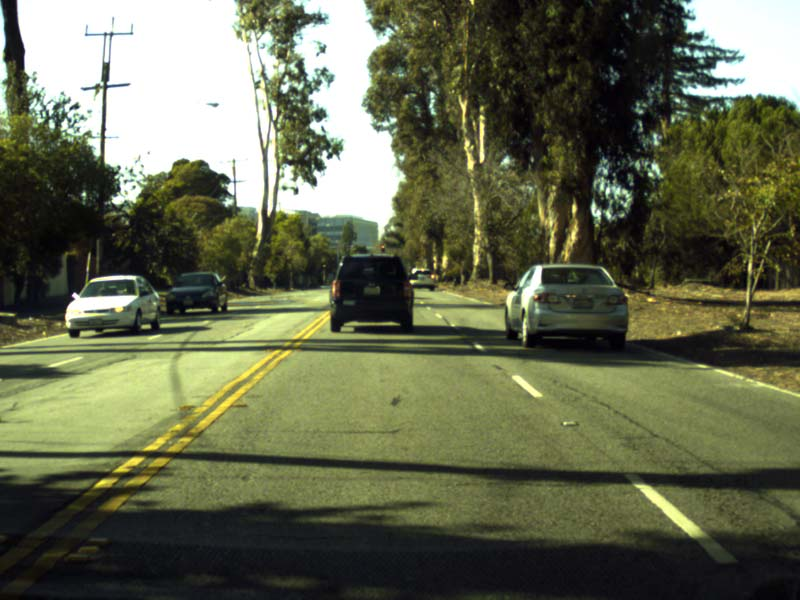Red: (380, 244, 384, 252)
Yellow: (321, 263, 326, 268)
